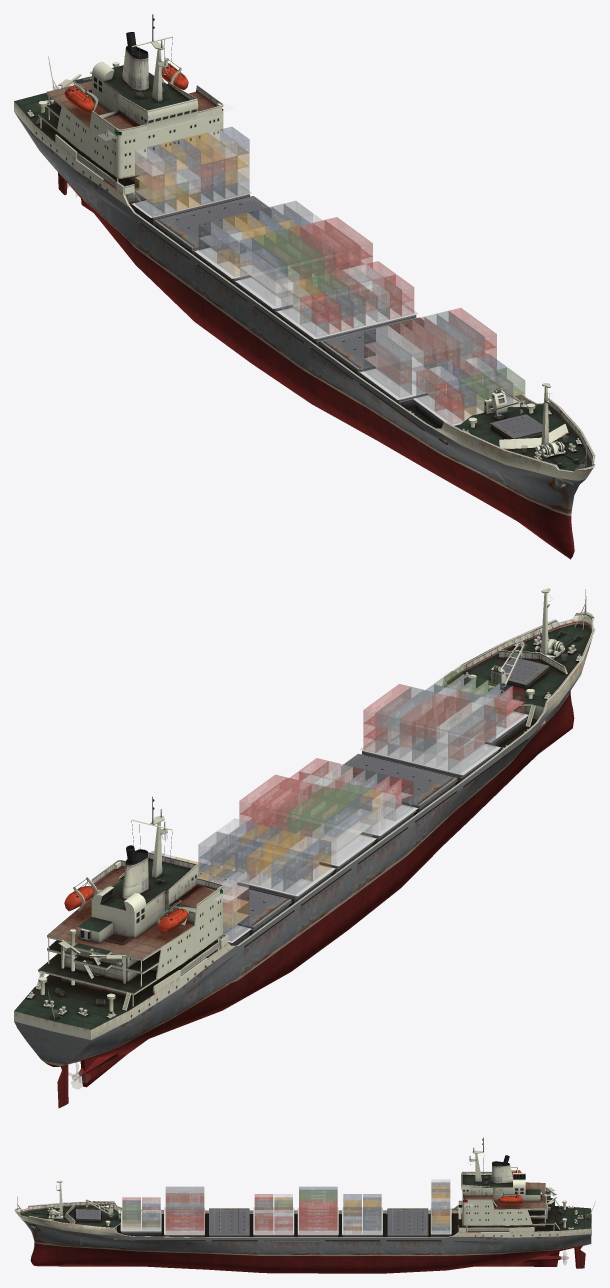
The model's file is ship_2.glb.
The picture shows the model from 3 angles, top to bottom: view 1: azimuth 30°, elevation 25°; view 2: azimuth 150°, elevation 25°; view 3: azimuth 270°, elevation 25°; orthographic projection. The views are drawn at different scales.
Visible parts, largest first — view 1: 䴬body, 䴬_02, 䴬_07; view 2: 䴬body, 䴬_02, 䴬_07, 䴬_09; view 3: 䴬body, 䴬_02, 䴬_07, 䴬_03.
Part boxes in pixels (<box>): 䴬body: <box>14,14,595,559</box>; 䴬_02: <box>135,127,524,424</box>; 䴬_07: <box>132,179,526,425</box>; 䴬body: <box>14,588,595,1087</box>; 䴬_02: <box>151,671,524,940</box>; 䴬_07: <box>198,696,528,942</box>; 䴬_09: <box>54,617,585,1018</box>; 䴬body: <box>14,1137,595,1273</box>; 䴬_02: <box>122,1179,450,1233</box>; 䴬_07: <box>120,1207,451,1234</box>; 䴬_03: <box>574,1247,585,1268</box>.
Size of the model in its own units: 96.54 by 173 by 696.
Materials: 5 (3 with a texture image).
